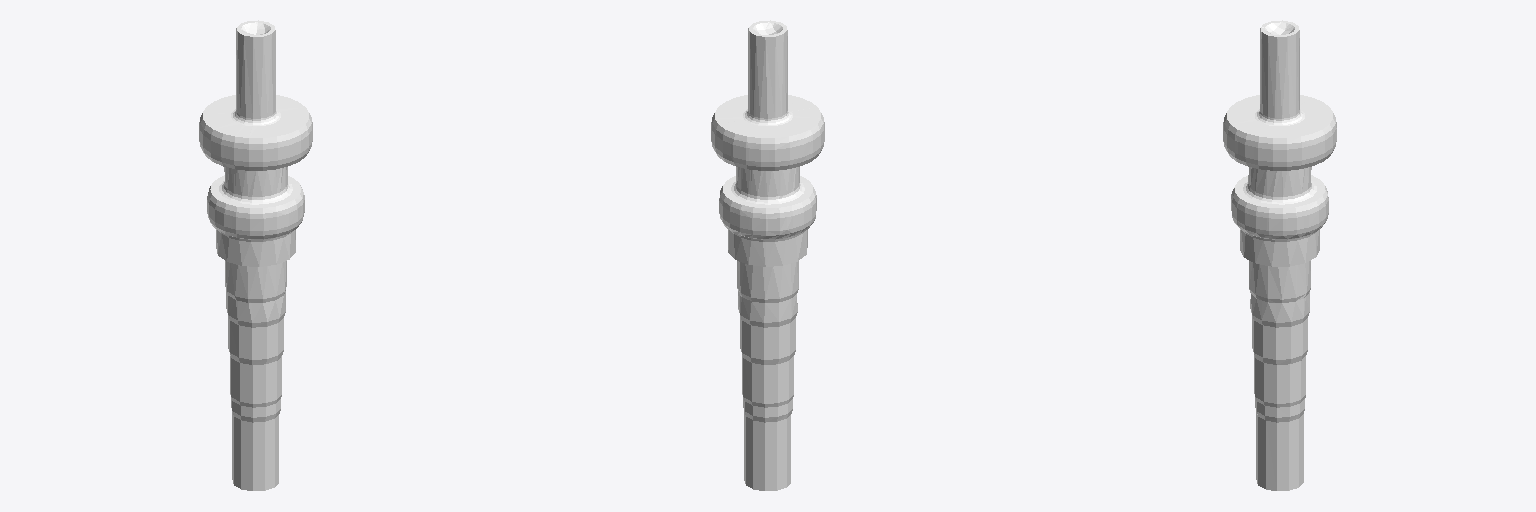
The robot description file, URDF, robot "model.urdf":
<?xml version="0.0" ?>
<robot name="model.urdf">
  <link name="baseLink">
    <contact>
      <lateral_friction value="0.8"/>
      <rolling_friction value="0.001"/>
      <contact_cfm value="0.0"/>
      <contact_erp value="1.0"/>
    </contact>
    <inertial>
    <origin rpy="0 0 0" xyz="0.01 0.0 0.01"/>
       <mass value=".66"/>
       <inertia ixx="1e-3" ixy="0" ixz="0" iyy="1e-3" iyz="0" izz="1e-3"/>
    </inertial>
    <visual>
      <origin xyz="0 0 0" rpy="1.571 0 0"/>
      <geometry>
        <mesh filename="IPAGearShaft.obj" scale="1 1 1"/>
      </geometry>
      <material name="white">
        <color rgba="1. 1. 1. 1."/>
      </material>
    </visual>
    <collision>
      <origin xyz="0 0 0" rpy="1.571 0 0"/>
      <geometry>
    	 	<!-- <mesh filename="totebox_600x400x212-refine_Pocket.stl" scale="0.001 0.001 0.001"/> -->
        <mesh filename="IPAGearShaft_collision.obj" scale="0.95 0.95 0.95"/>
      </geometry>
    </collision>
  </link>
</robot>

--- What the picture shows (computed from the rendered views, not written in the file) ---
Views: 3 orthographic renders of the robot side by side, from view 1: azimuth 30°, elevation 25°; view 2: azimuth 150°, elevation 25°; view 3: azimuth 270°, elevation 25°.
Robot: model.urdf — 1 links, 0 joints (none); root link baseLink; default pose: every joint at zero.
Visible links, largest first — view 1: baseLink; view 2: baseLink; view 3: baseLink.
Boxes of the visible links, <box> form: baseLink: <box>199,20,312,490</box>; baseLink: <box>711,20,824,490</box>; baseLink: <box>1223,20,1336,490</box>.
Bounding box of the posed robot: 0.0987 × 0.0987 × 0.4358 m (x, y, z).
1 mesh visuals loaded from 1 distinct referenced files (1 OBJ).